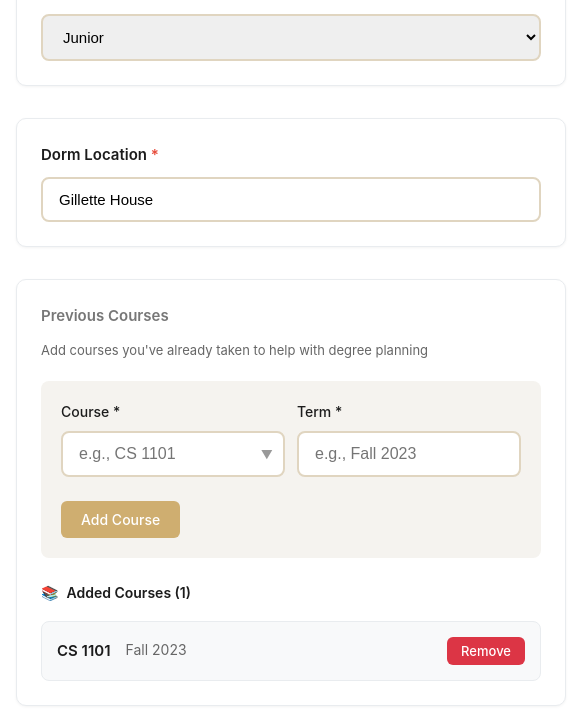
it: ProfilePage › removes a course from the list
(page scrolled)
Expected: the text "Added Courses (1)" is shown, [66,582,191,605]
Expected: the text "CS 1101" is shown, [57,639,110,663]
Remove the course
Click the button "Remove": (486, 651) [447,637,525,665]
(page scrolled)
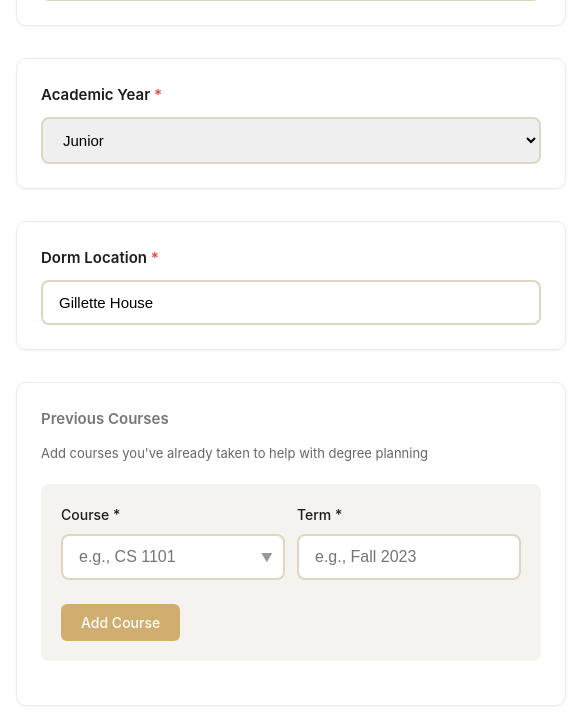
Now the text "Added Courses (1)" is gone
